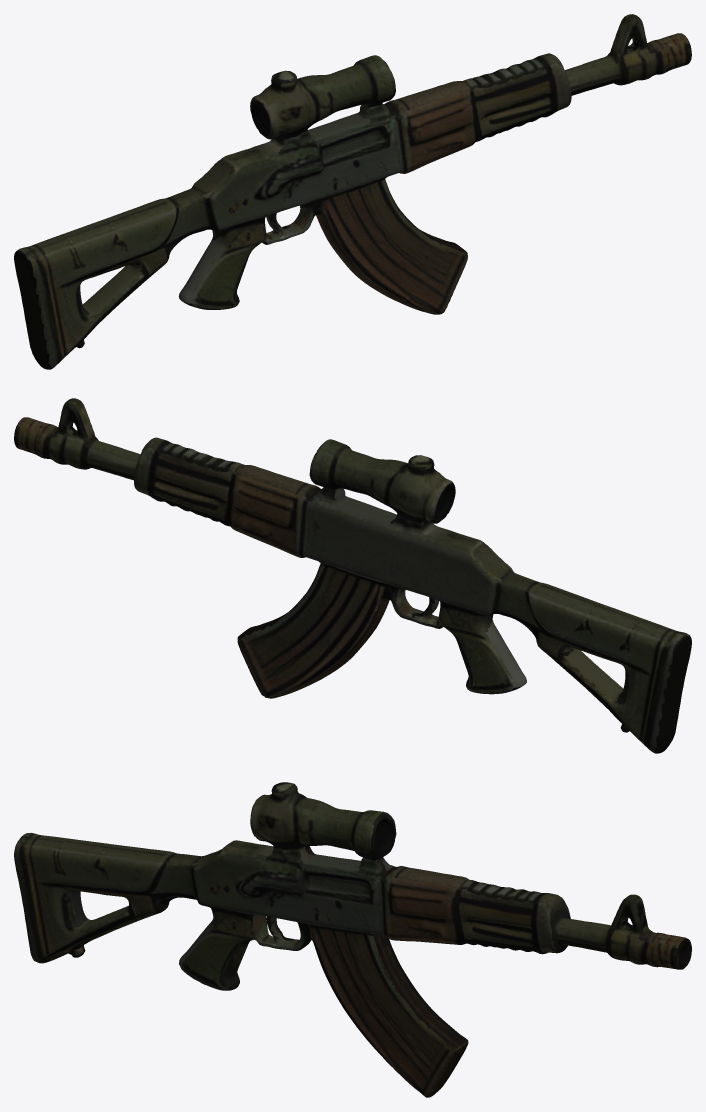
The model's file is source-2.glb.
3 views of the same model, one above another, from view 1: azimuth 30°, elevation 25°; view 2: azimuth 150°, elevation 25°; view 3: azimuth 330°, elevation 25° (orthographic).
Parts seen in each view (by area): view 1: tmpi5e4nf5k.ply; view 2: tmpi5e4nf5k.ply; view 3: tmpi5e4nf5k.ply.
Part boxes in pixels (x1,y1,x2,y2): tmpi5e4nf5k.ply: (14, 14, 691, 369); tmpi5e4nf5k.ply: (14, 398, 691, 753); tmpi5e4nf5k.ply: (14, 782, 691, 1097).
Bounding box in the file's own units: 1.96 × 0.7741 × 0.1371.
Materials: 1 (1 with a texture image).
